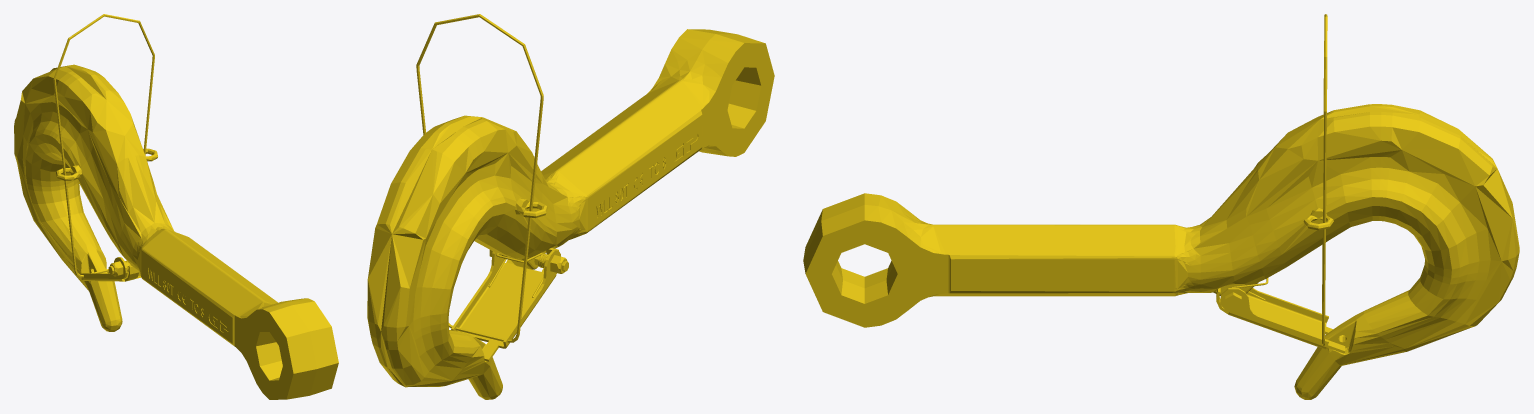
Rendered from gpsh0080rov.glb.
3 renders of one model, left to right at view 1: azimuth 30°, elevation 25°; view 2: azimuth 150°, elevation 25°; view 3: azimuth 270°, elevation 25°, orthographic. The views are drawn at different scales.
Parts seen in each view (by area): view 1: gpsh0080rov; view 2: gpsh0080rov; view 3: gpsh0080rov.
Boxes of the visible parts, x1,y1,x2,y2 form: gpsh0080rov: (14,14,338,399); gpsh0080rov: (367,14,774,399); gpsh0080rov: (803,14,1519,399).
Size of the model in its own units: 0.21 by 0.6181 by 1.05.
